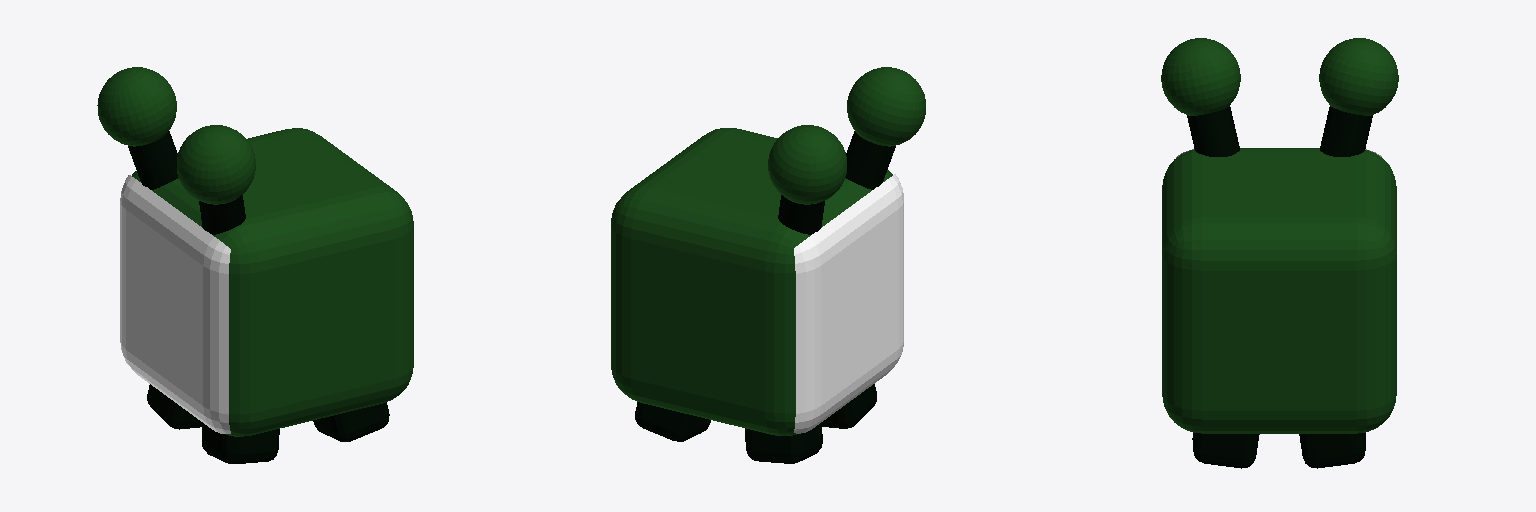
File: Alien.obj
The picture shows the model from 3 angles: view 1: azimuth 30°, elevation 25°; view 2: azimuth 150°, elevation 25°; view 3: azimuth 270°, elevation 25°; orthographic projection.
Parts seen in each view (by area): view 1: Meshessmoothcube11, Meshessmoothcube12, Meshessmoothcube13, Meshesmarshmallow1, Meshesmarshmallow3, Meshesmarshmallow2, Meshesmarshmallow4; view 2: Meshessmoothcube11, Meshessmoothcube12, Meshessmoothcube13, Meshesmarshmallow3, Meshesmarshmallow1, Meshesmarshmallow4, Meshesmarshmallow2; view 3: Meshessmoothcube11, Meshesmarshmallow1, Meshesmarshmallow3, Meshessmoothcube13, Meshesmarshmallow2, Meshesmarshmallow4.
Boxes of the visible parts, <box> form: Meshessmoothcube11: <box>132,128,413,436</box>; Meshessmoothcube12: <box>120,175,230,433</box>; Meshessmoothcube13: <box>147,384,389,463</box>; Meshesmarshmallow1: <box>177,125,255,204</box>; Meshesmarshmallow3: <box>97,67,176,146</box>; Meshesmarshmallow2: <box>128,131,178,189</box>; Meshesmarshmallow4: <box>199,195,245,234</box>; Meshessmoothcube11: <box>611,128,892,435</box>; Meshessmoothcube12: <box>794,174,903,433</box>; Meshessmoothcube13: <box>635,384,876,463</box>; Meshesmarshmallow3: <box>768,125,846,204</box>; Meshesmarshmallow1: <box>847,67,925,146</box>; Meshesmarshmallow4: <box>845,131,895,189</box>; Meshesmarshmallow2: <box>778,195,824,234</box>; Meshessmoothcube11: <box>1162,148,1396,433</box>; Meshesmarshmallow1: <box>1161,38,1240,115</box>; Meshesmarshmallow3: <box>1319,38,1398,115</box>; Meshessmoothcube13: <box>1192,433,1365,468</box>; Meshesmarshmallow2: <box>1320,106,1372,156</box>; Meshesmarshmallow4: <box>1187,106,1239,156</box>.
Bounding box in the file's own units: 2.08 × 3.08 × 1.89.